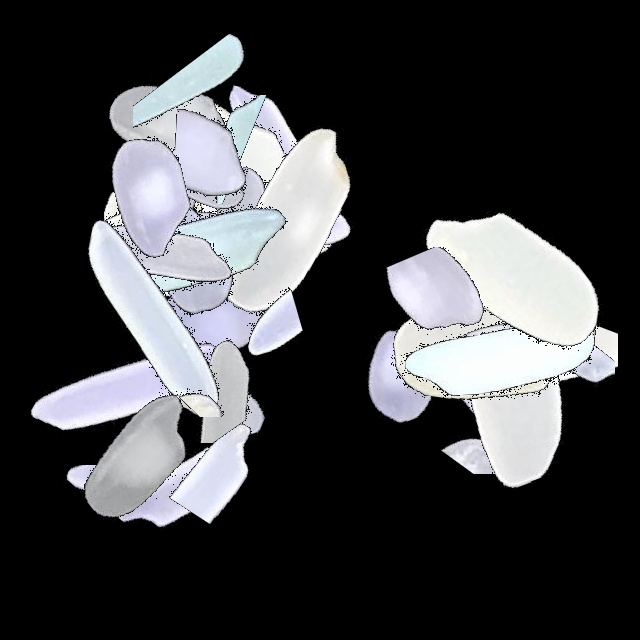Broken: (29, 300, 201, 550), (326, 247, 576, 408), (18, 160, 268, 316), (64, 296, 314, 443), (105, 386, 246, 636), (479, 256, 618, 506), (175, 28, 314, 278), (157, 0, 292, 250), (158, 331, 286, 581), (0, 465, 250, 592), (492, 266, 615, 516), (133, 11, 254, 261), (60, 95, 310, 204), (121, 270, 371, 373), (69, 251, 319, 353), (67, 159, 317, 256), (105, 157, 355, 254), (86, 300, 336, 392), (362, 388, 612, 474), (210, 114, 295, 364), (90, 339, 340, 417)
Full: (350, 230, 600, 480), (81, 57, 331, 307), (390, 207, 640, 457), (79, 267, 329, 517), (139, 30, 389, 280), (86, 192, 336, 442), (93, 35, 343, 285), (285, 246, 535, 496), (93, 117, 343, 367), (76, 114, 326, 364), (154, 46, 404, 296), (3, 257, 253, 507), (130, 69, 380, 319), (390, 262, 640, 512), (366, 224, 616, 474), (121, 64, 371, 314), (105, 115, 355, 365), (60, 124, 310, 374), (380, 231, 630, 481), (373, 232, 623, 482), (390, 152, 640, 402), (168, 97, 418, 347), (71, 132, 321, 382), (57, 37, 307, 287), (51, 0, 301, 250), (64, 123, 314, 373), (38, 130, 288, 380), (31, 190, 281, 440), (28, 72, 278, 322)
